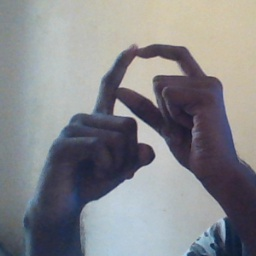D: (71, 38, 218, 161)
